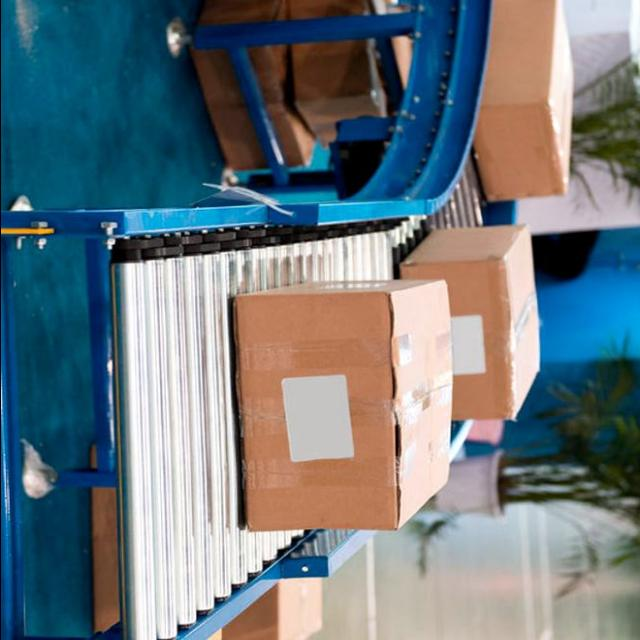food: (231, 276, 455, 532), (396, 222, 542, 422), (470, 0, 576, 203)
